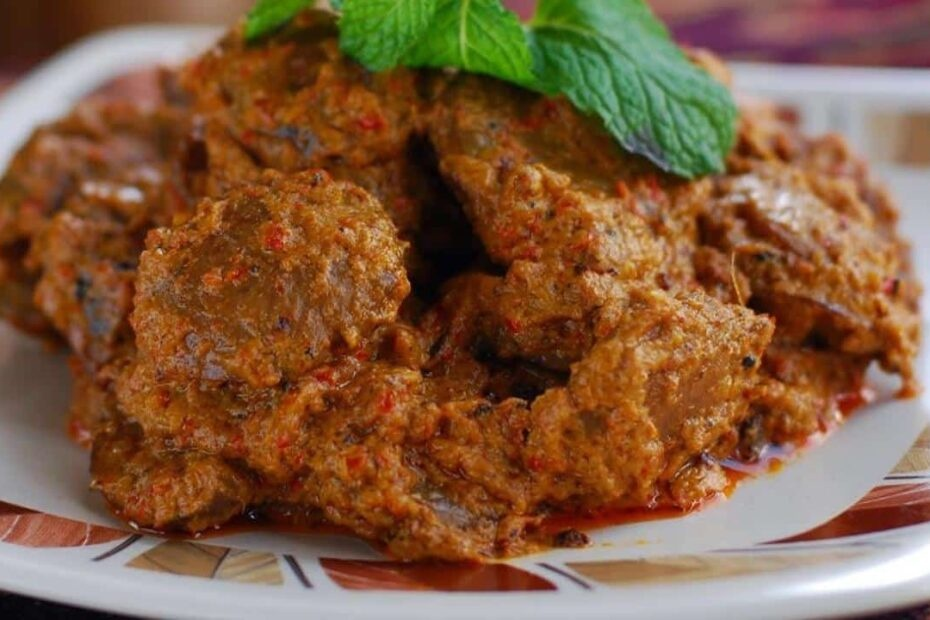rendang: (1, 12, 923, 562)
